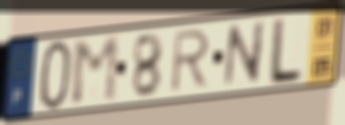0: (36, 38, 74, 113)
8: (130, 31, 166, 99)
L: (264, 15, 306, 88)
M: (70, 33, 122, 109)
N: (220, 18, 268, 91)
R: (167, 26, 214, 96)
